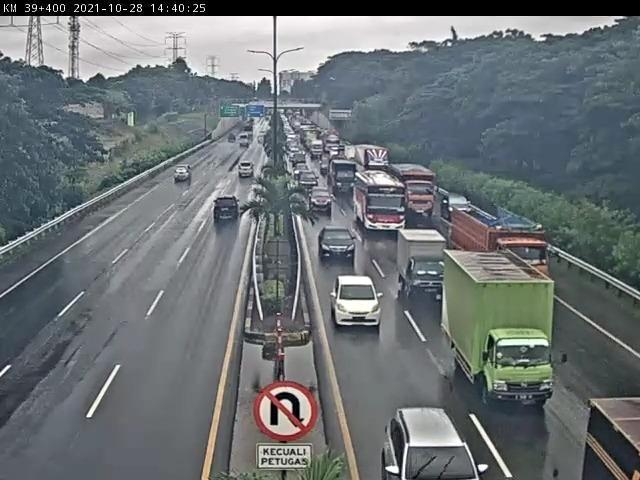bus: (356, 169, 406, 234)
car: (383, 409, 488, 480), (330, 276, 382, 331), (320, 223, 355, 257), (211, 196, 243, 227), (444, 193, 471, 218), (311, 184, 336, 207), (173, 167, 198, 188), (238, 161, 261, 182)
truck: (444, 252, 559, 412), (450, 204, 550, 287), (399, 231, 448, 296), (394, 163, 438, 220), (331, 158, 360, 193)
